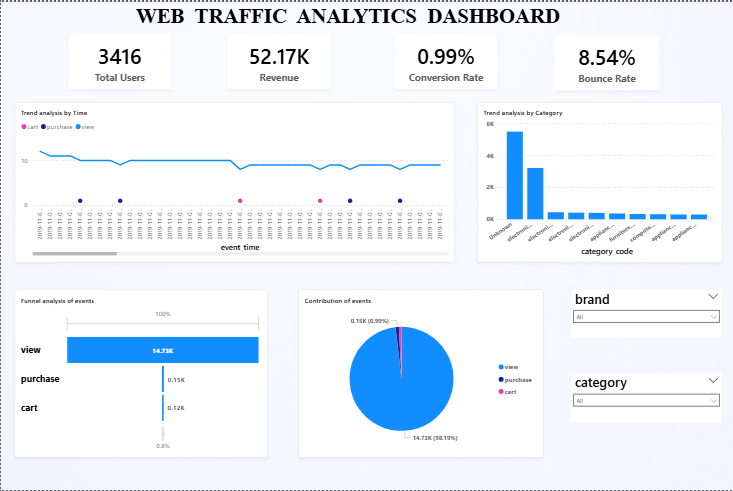

The dashboard page shown, as its layout file describes it:
{"tool":"powerbi","page":{"name":"Page 1","canvas":[1500,1000],"ordinal":0},"visuals":[{"type":"funnel","title":"Funnel analysis of events","fields":{"Category":["final file.event_type"],"Y":["CountNonNull(final file.event_type)"]},"box":[28.6,589.8,518.4,344.9],"z":0},{"type":"columnChart","title":"Trend analysis by Category","fields":{"Category":["final file.category_code"],"Y":["CountNonNull(final file.category_code)"]},"box":[977.6,206.1,502,328.6],"z":1},{"type":"pieChart","title":"Contribution of events","fields":{"Category":["final file.event_type"],"Y":["CountNonNull(final file.event_type)"]},"box":[610.2,589.8,502,344.9],"z":2},{"type":"lineChart","title":"Trend analysis by Time","fields":{"Category":["final file.event_time"],"Y":["CountNonNull(final file.event_type)"],"Series":["final file.event_type"]},"box":[28.6,206.1,902,328.6],"z":3},{"type":"card","fields":{"Values":["final file.Revenue"]},"box":[463.3,67.3,212.2,112.2],"z":4},{"type":"card","fields":{"Values":["final file.Total Users"]},"box":[138.8,67.3,210.2,112.2],"z":5},{"type":"card","fields":{"Values":["final file.Conversion Rate"]},"box":[808.2,67.3,210.2,112.2],"z":6},{"type":"card","fields":{"Values":["final file.Bounce Rate"]},"box":[1136.7,69.4,214.3,112.2],"z":7},{"type":"textbox","box":[270.8,0,897.9,66.7],"z":8},{"type":"slicer","fields":{"Values":["final file.brand"]},"box":[1169.2,590.4,309.6,98.1],"z":9},{"type":"slicer","fields":{"Values":["final file.category_code"]},"box":[1169.2,761.5,309.6,101.9],"z":10}]}

Visuals, with their boxes in screenshot pixels (x1, y1, x2, y2), scaled from the page's 1500x1000 canvas onto the 733x491 screenshot:
"Funnel analysis of events" funnel: pyautogui.locateOnScreen(14, 290, 267, 459)
"Trend analysis by Category" columnChart: pyautogui.locateOnScreen(478, 101, 723, 263)
"Contribution of events" pieChart: pyautogui.locateOnScreen(298, 290, 543, 459)
"Trend analysis by Time" lineChart: pyautogui.locateOnScreen(14, 101, 455, 263)
card - final file.Revenue: pyautogui.locateOnScreen(226, 33, 330, 88)
card - final file.Total Users: pyautogui.locateOnScreen(68, 33, 171, 88)
card - final file.Conversion Rate: pyautogui.locateOnScreen(395, 33, 498, 88)
card - final file.Bounce Rate: pyautogui.locateOnScreen(555, 34, 660, 89)
textbox: pyautogui.locateOnScreen(132, 0, 571, 33)
slicer - final file.brand: pyautogui.locateOnScreen(571, 290, 723, 338)
slicer - final file.category_code: pyautogui.locateOnScreen(571, 374, 723, 424)
